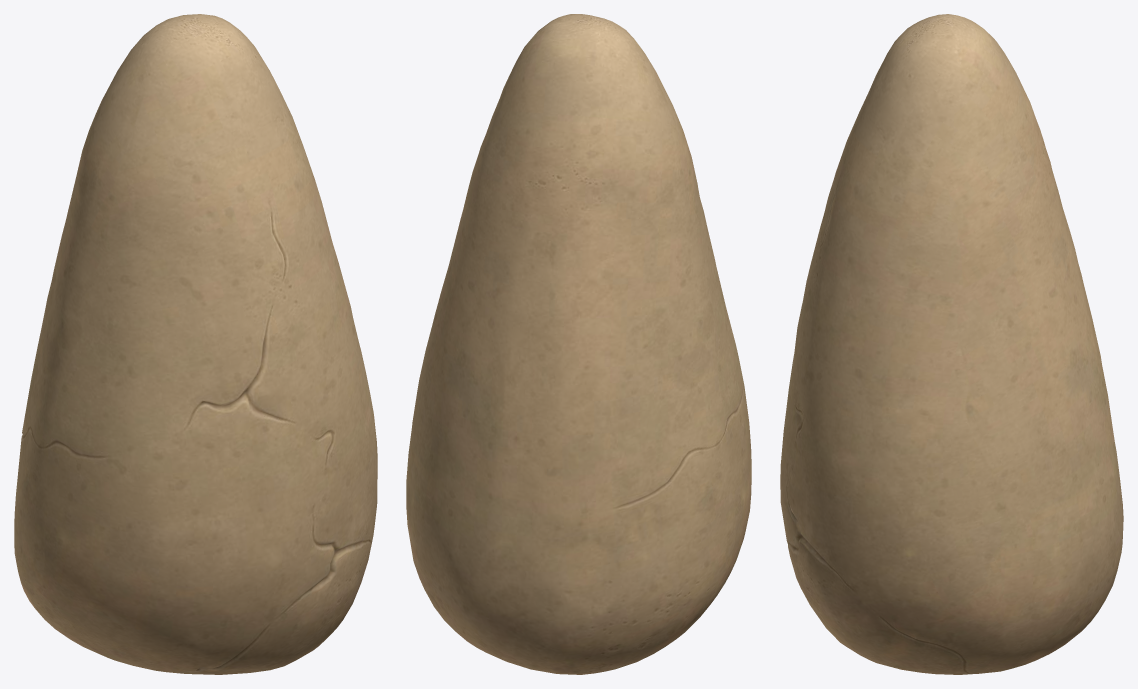
File: tb_bone_02d.glb
3 renders of one model, left to right at view 1: azimuth 30°, elevation 25°; view 2: azimuth 150°, elevation 25°; view 3: azimuth 270°, elevation 25°, orthographic. The views are drawn at different scales.
Visible parts, largest first — view 1: tb_bone_02d; view 2: tb_bone_02d; view 3: tb_bone_02d.
Boxes of the visible parts, <box> form: tb_bone_02d: <box>14,14,377,674</box>; tb_bone_02d: <box>406,14,751,674</box>; tb_bone_02d: <box>780,14,1123,674</box>.
Size of the model in its own units: 0.7044 by 1.36 by 0.679.
Materials: 1 (1 with a texture image).
